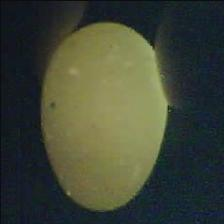infertile: (41, 20, 171, 213)
